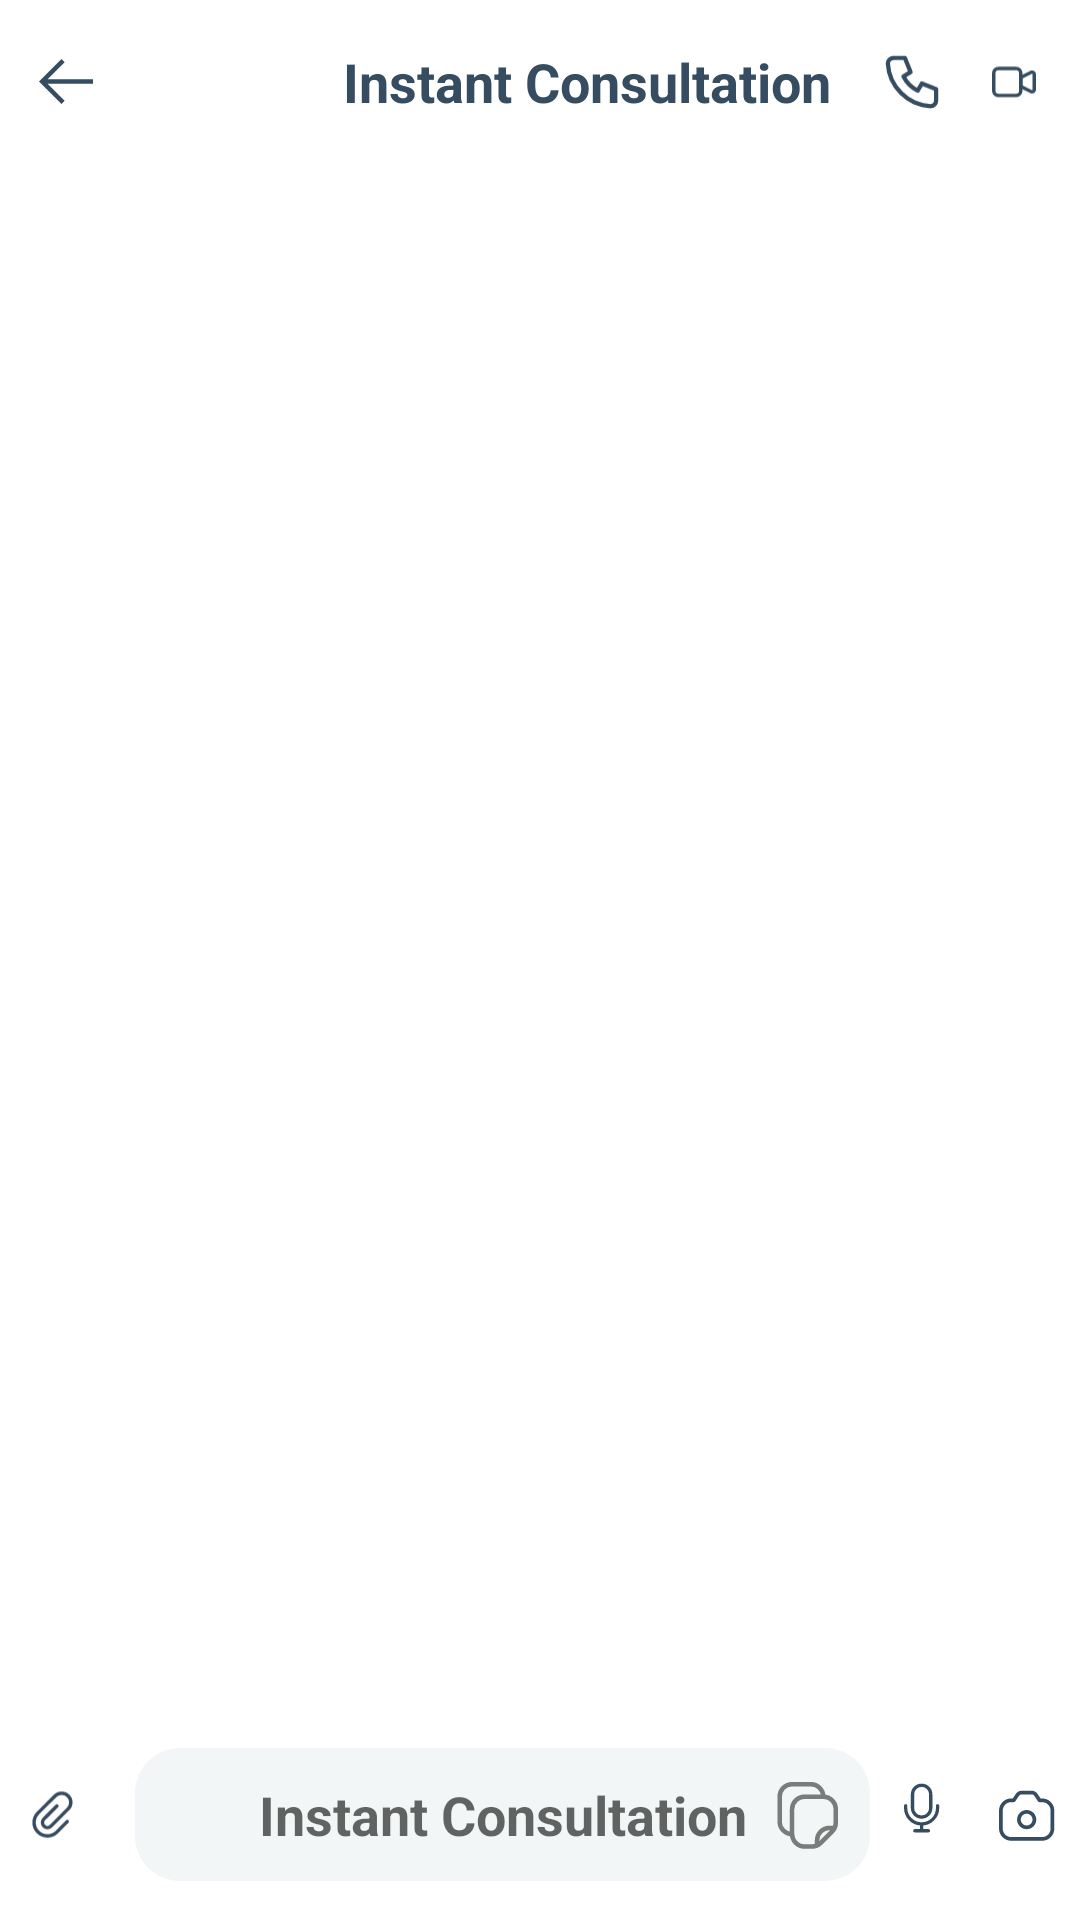

Point at icon controls on the screen. Image size 1080 x 1920, points as [x,y].
back: [66,81]
call: [912,82]
camera: [1027,1815]
more item in chat: [52,1814]
video: [1014,82]
voice: [922,1808]
